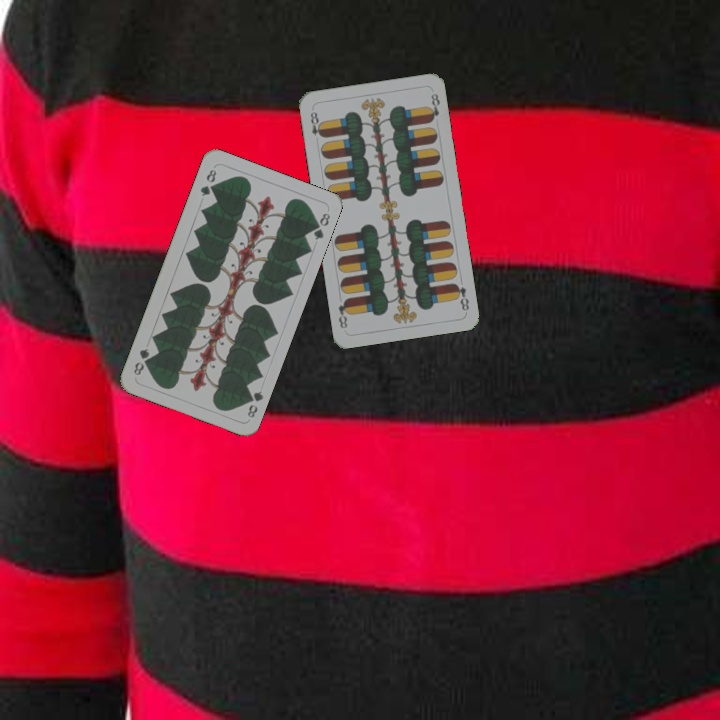E8: (450, 279, 472, 313), (306, 107, 326, 140)
G8: (242, 387, 266, 420), (196, 165, 219, 199)
